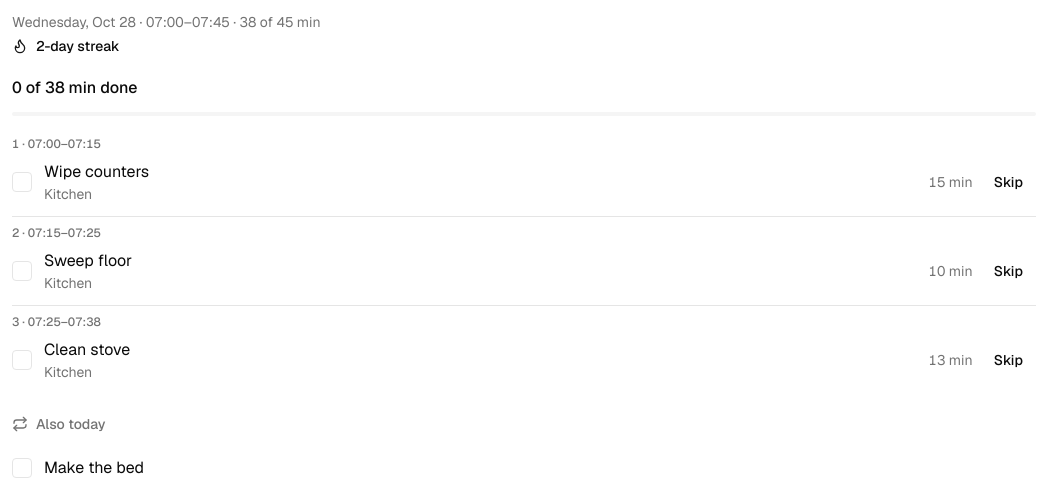
TodaySession › AC3 and spec 007 AC4: skipping leaves the total but keeps the end time; undo restores it
Click the button with aria-label "Skip Clean stove" at [1008, 360], box x1=981 y1=338 x2=1036 y2=382
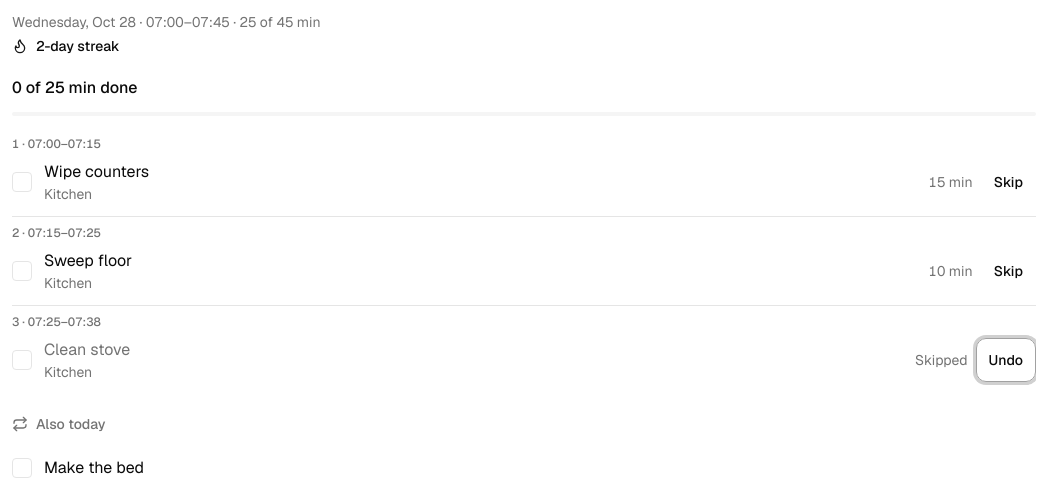
Check: the text "0 of 25 min done" is shown, box x1=12 y1=77 x2=138 y2=98
Check: the text "· 07:00–07:45 · 25 of 45 min" is shown, box x1=136 y1=13 x2=321 y2=31
Click the button with aria-label "Undo skipping Clean stove" at [1006, 360], box x1=976 y1=338 x2=1036 y2=382
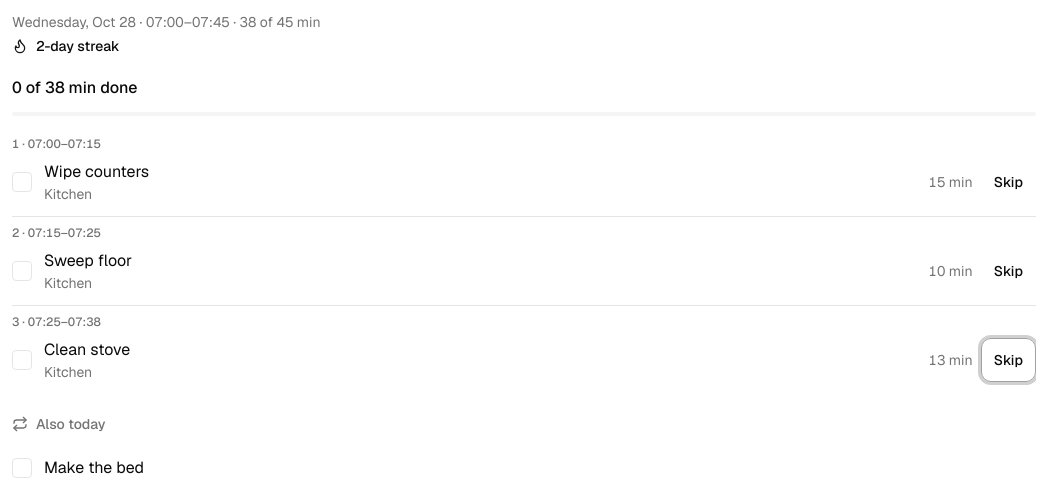
Check: the text "0 of 38 min done" is shown, box x1=12 y1=77 x2=138 y2=98
